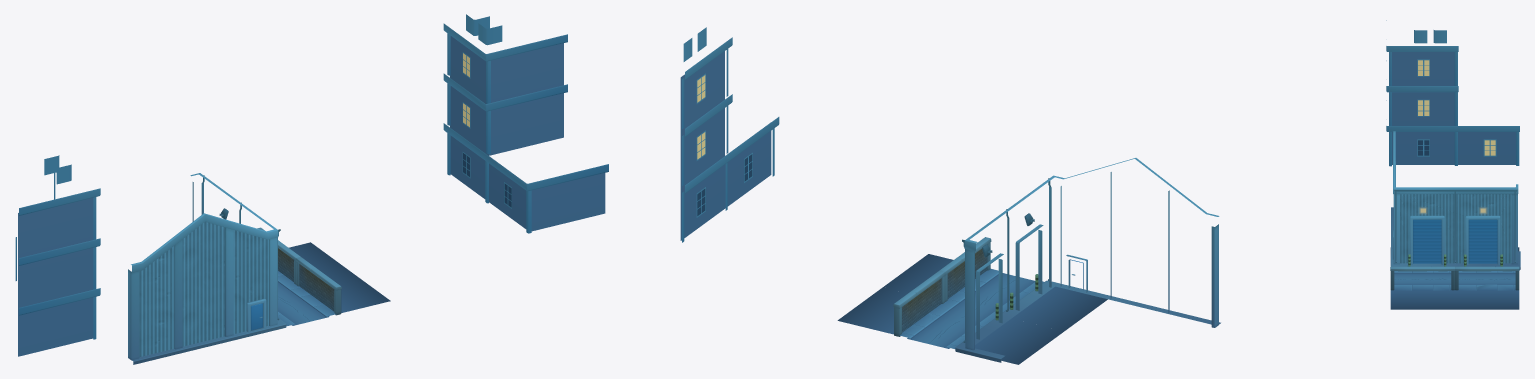
The model's file is IndustrialWarehouse01.prefab.glb.
3 renders of one model, left to right at view 1: azimuth 30°, elevation 25°; view 2: azimuth 150°, elevation 25°; view 3: azimuth 270°, elevation 25°, orthographic. The views are drawn at different scales.
Parts seen in each view (by area): view 1: FarBackBuilding02, Warehouse01, IndustrialWarehouse01, BrickWall, Road02, BrickWall (1); view 2: FarBackBuilding02, Warehouse01, Road02, IndustrialWarehouse01, BrickWall (1), BrickWall; view 3: FarBackBuilding02, Warehouse01, IndustrialWarehouse01, Road02, BrickWall, BrickWall (1).
Boxes of the visible parts, x1=… form: FarBackBuilding02: x1=15, y1=14, x2=608, y2=356; Warehouse01: x1=128, y1=173, x2=286, y2=364; IndustrialWarehouse01: x1=233, y1=271, x2=390, y2=339; BrickWall: x1=295, y1=257, x2=341, y2=315; Road02: x1=278, y1=242, x2=350, y2=290; BrickWall (1): x1=257, y1=227, x2=300, y2=284; FarBackBuilding02: x1=680, y1=27, x2=779, y2=242; Warehouse01: x1=955, y1=158, x2=1220, y2=362; Road02: x1=837, y1=287, x2=1063, y2=364; IndustrialWarehouse01: x1=883, y1=254, x2=1107, y2=331; BrickWall (1): x1=893, y1=270, x2=945, y2=336; BrickWall: x1=940, y1=237, x2=991, y2=301; FarBackBuilding02: x1=1386, y1=20, x2=1519, y2=166; Warehouse01: x1=1391, y1=131, x2=1520, y2=269; IndustrialWarehouse01: x1=1390, y1=247, x2=1454, y2=309; Road02: x1=1455, y1=247, x2=1519, y2=309; BrickWall: x1=1390, y1=266, x2=1454, y2=290; BrickWall (1): x1=1455, y1=266, x2=1519, y2=290.
Size of the model in its own units: 76.34 by 26.28 by 18.74.
4 materials, 3 textured.
